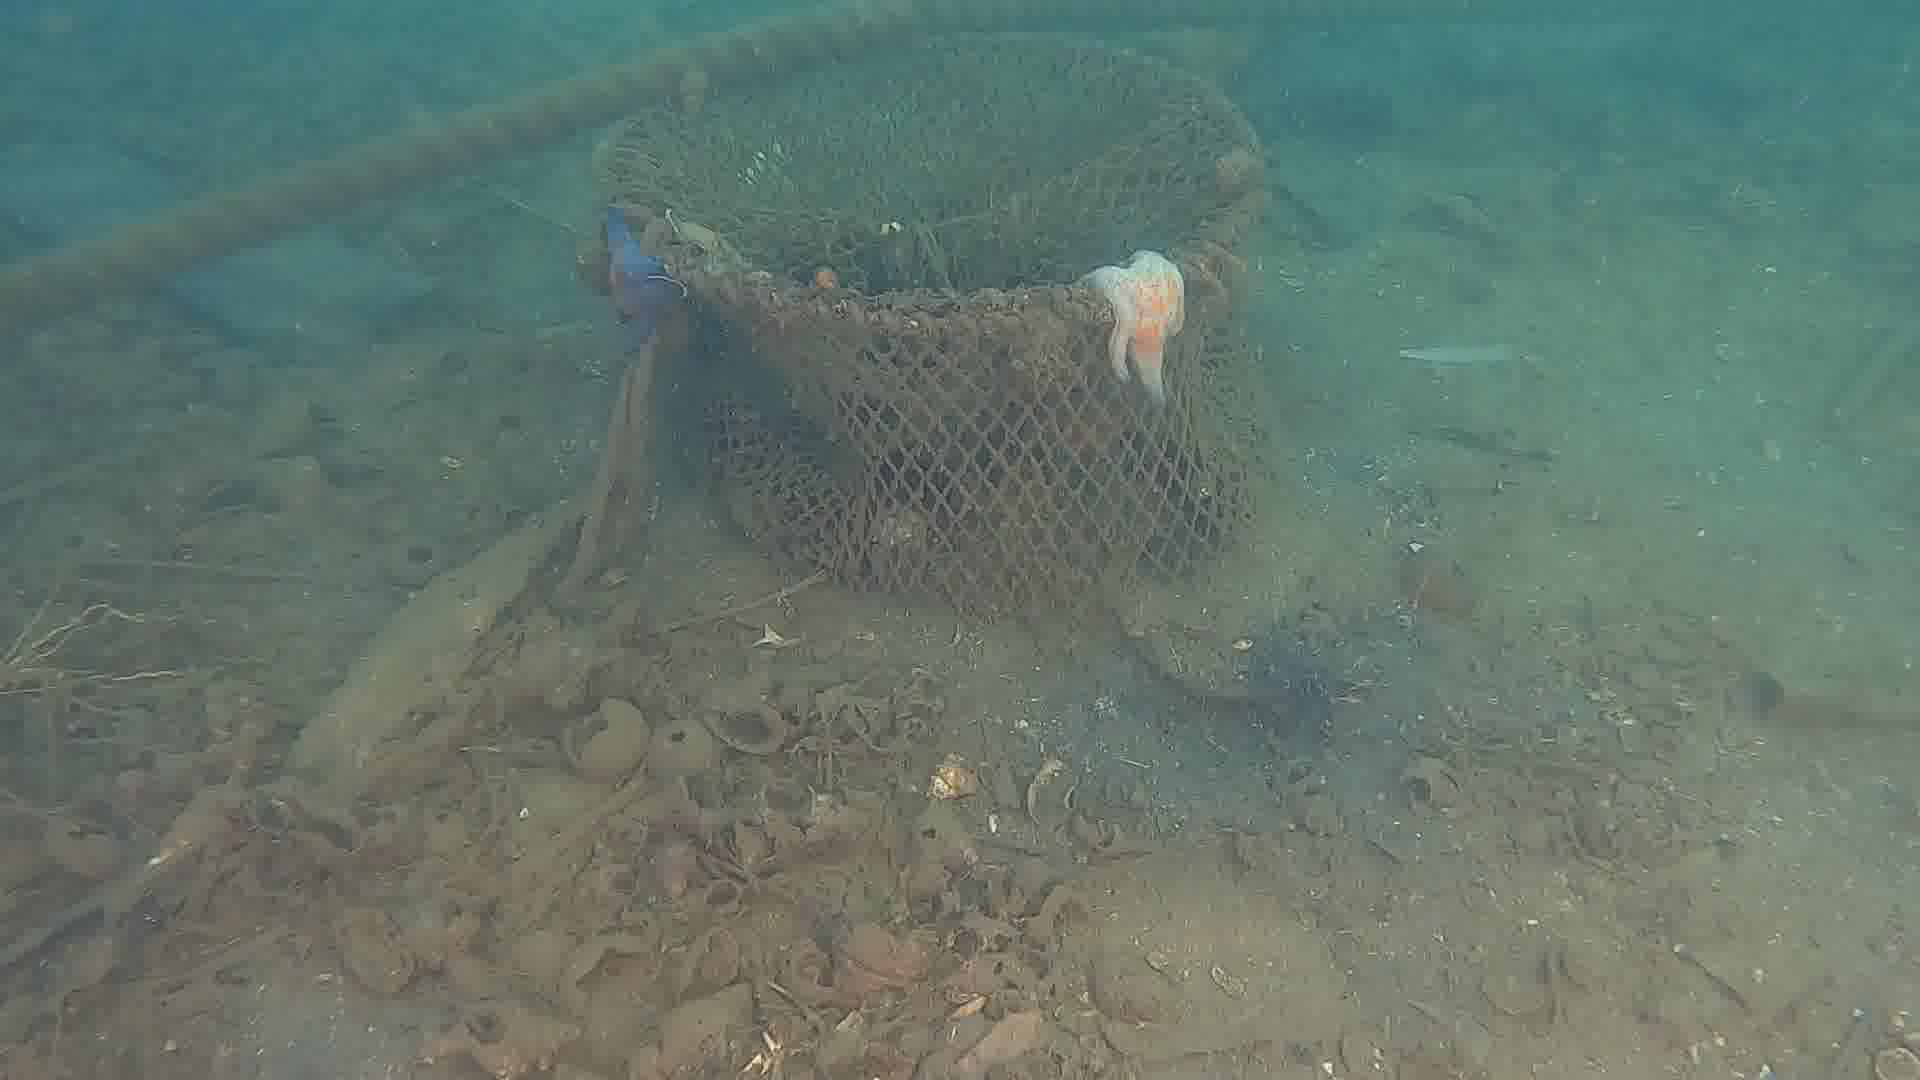bundle of ropes: (546, 323, 670, 637)
circular fish trap: (603, 22, 1271, 609)
rope: (0, 0, 971, 367)
